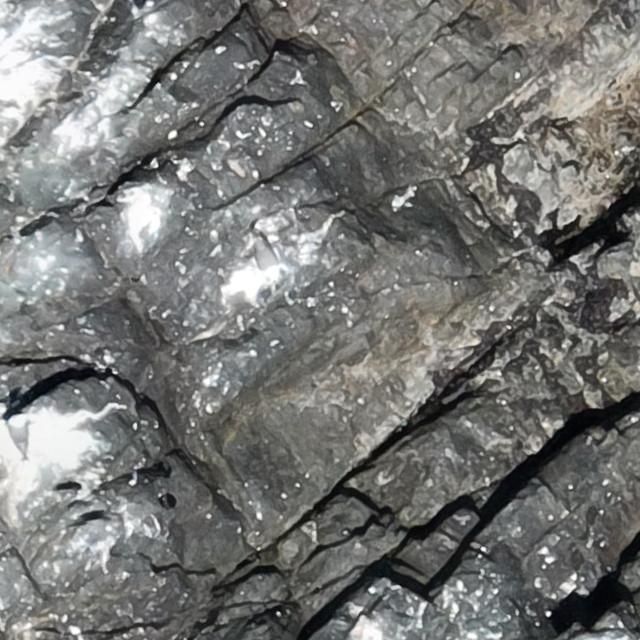umineko: (257, 236, 280, 283)
